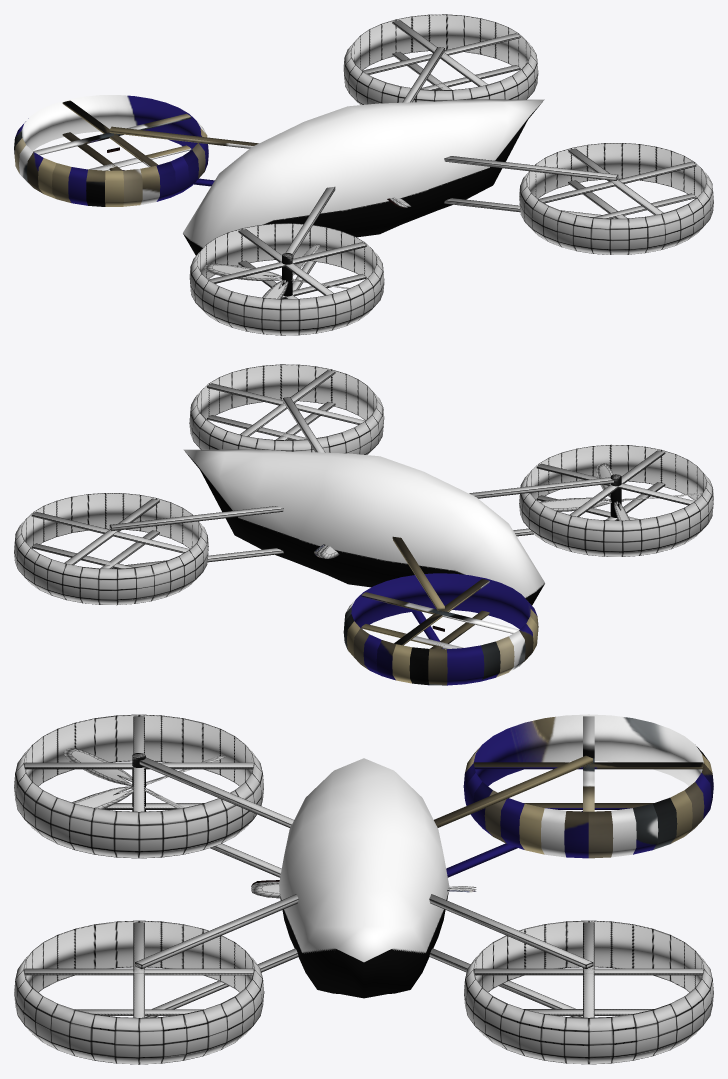
File: dolone.gltf
3 renders of one model, top to bottom at view 1: azimuth 30°, elevation 25°; view 2: azimuth 150°, elevation 25°; view 3: azimuth 270°, elevation 25°, orthographic. The views are drawn at different scales.
Parts seen in each view (by area): view 1: 球.007, 球.014, 球.008, 球.018, 球.025, 球.053; view 2: 球.007, 球.025, 球.008, 球.018, 球.014, 球.053; view 3: 球.007, 球.014, 球.025, 球.008, 球.018, 球.053.
Part boxes in pixels (bbox=[...]): 球.007: bbox=[183, 99, 544, 255]; 球.014: bbox=[444, 143, 713, 254]; 球.008: bbox=[14, 95, 258, 206]; 球.018: bbox=[189, 186, 384, 335]; 球.025: bbox=[343, 14, 538, 104]; 球.053: bbox=[204, 244, 349, 298]; 球.007: bbox=[183, 449, 544, 605]; 球.025: bbox=[14, 493, 283, 605]; 球.008: bbox=[343, 536, 538, 685]; 球.018: bbox=[469, 444, 713, 556]; 球.014: bbox=[189, 364, 384, 454]; 球.053: bbox=[539, 463, 701, 520]; 球.007: bbox=[279, 758, 449, 998]; 球.014: bbox=[14, 894, 298, 1064]; 球.025: bbox=[429, 894, 713, 1064]; 球.008: bbox=[434, 714, 713, 877]; 球.018: bbox=[14, 714, 293, 877]; 球.053: bbox=[63, 748, 226, 811].
Size of the model in its own units: 17.6 by 3.81 by 16.7.
9 materials, 9 textured.
